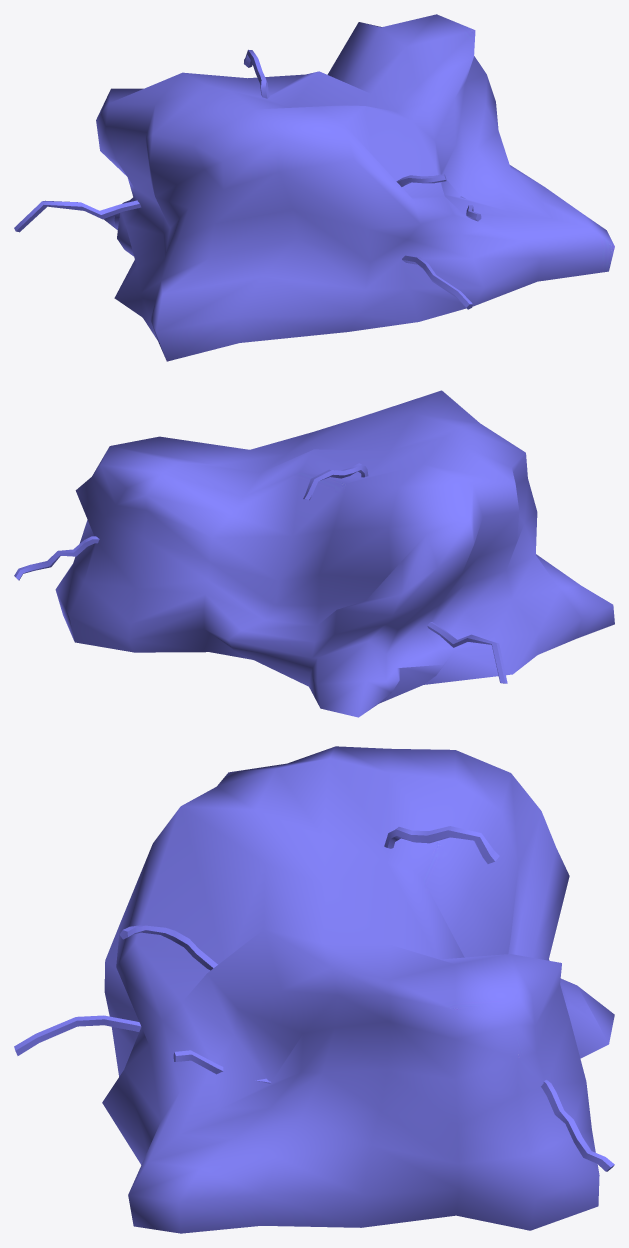
File: DESTROCO3.fbx
3 renders of one model, top to bottom at view 1: azimuth 30°, elevation 25°; view 2: azimuth 150°, elevation 25°; view 3: azimuth 270°, elevation 25°, orthographic. The views are drawn at different scales.
Visible parts, largest first — view 1: pCube3; view 2: pCube3; view 3: pCube3.
Part boxes in pixels (x1,y1,x2,y2): pCube3: (14, 14, 614, 361); pCube3: (14, 390, 614, 717); pCube3: (14, 746, 614, 1233).
Size of the model in its own units: 8.21 by 3.55 by 6.8.
